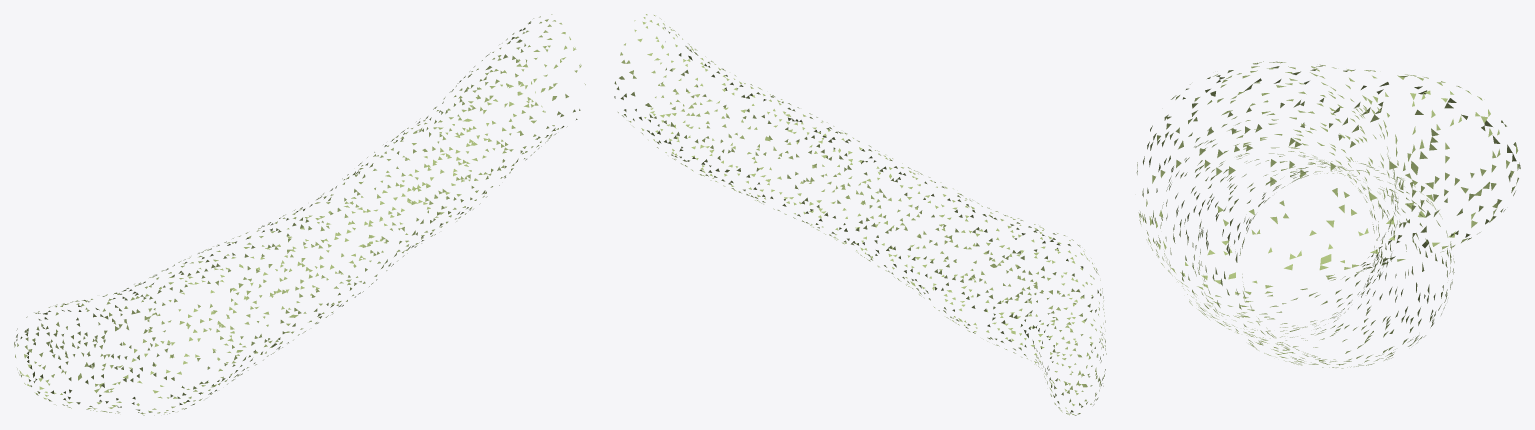
File: morph_011.glb
3 renders of one model, left to right at view 1: azimuth 30°, elevation 25°; view 2: azimuth 150°, elevation 25°; view 3: azimuth 270°, elevation 25°, orthographic. The views are drawn at different scales.
Bounding box in the file's own units: 86.22 × 45.85 × 29.92.
